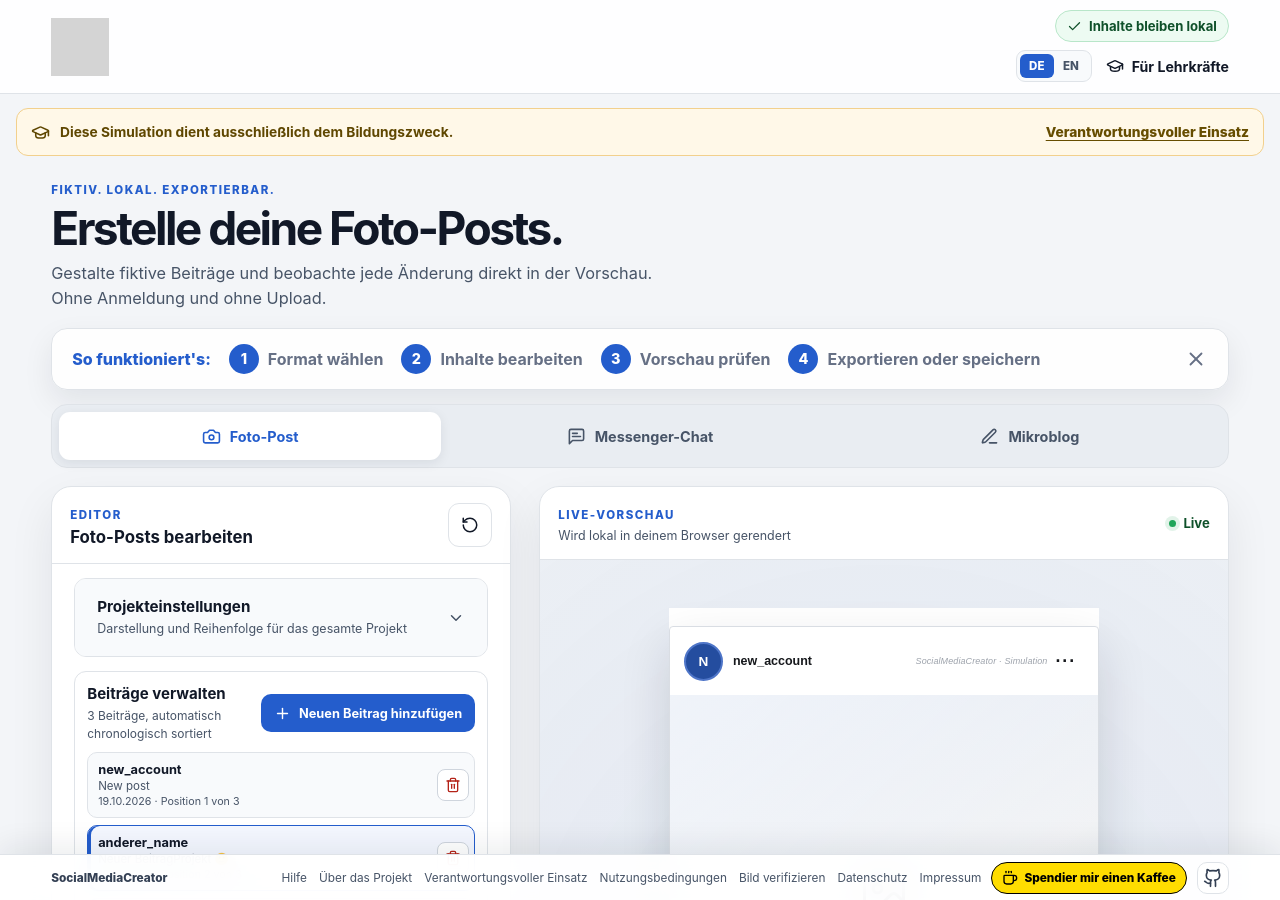
Test case: App › returns focus after closing the teacher information dialog
This screenshot has width=1280, height=900.
Click the button "Für Lehrkräfte" at point(1167, 66), box 1106,49 -> 1229,83
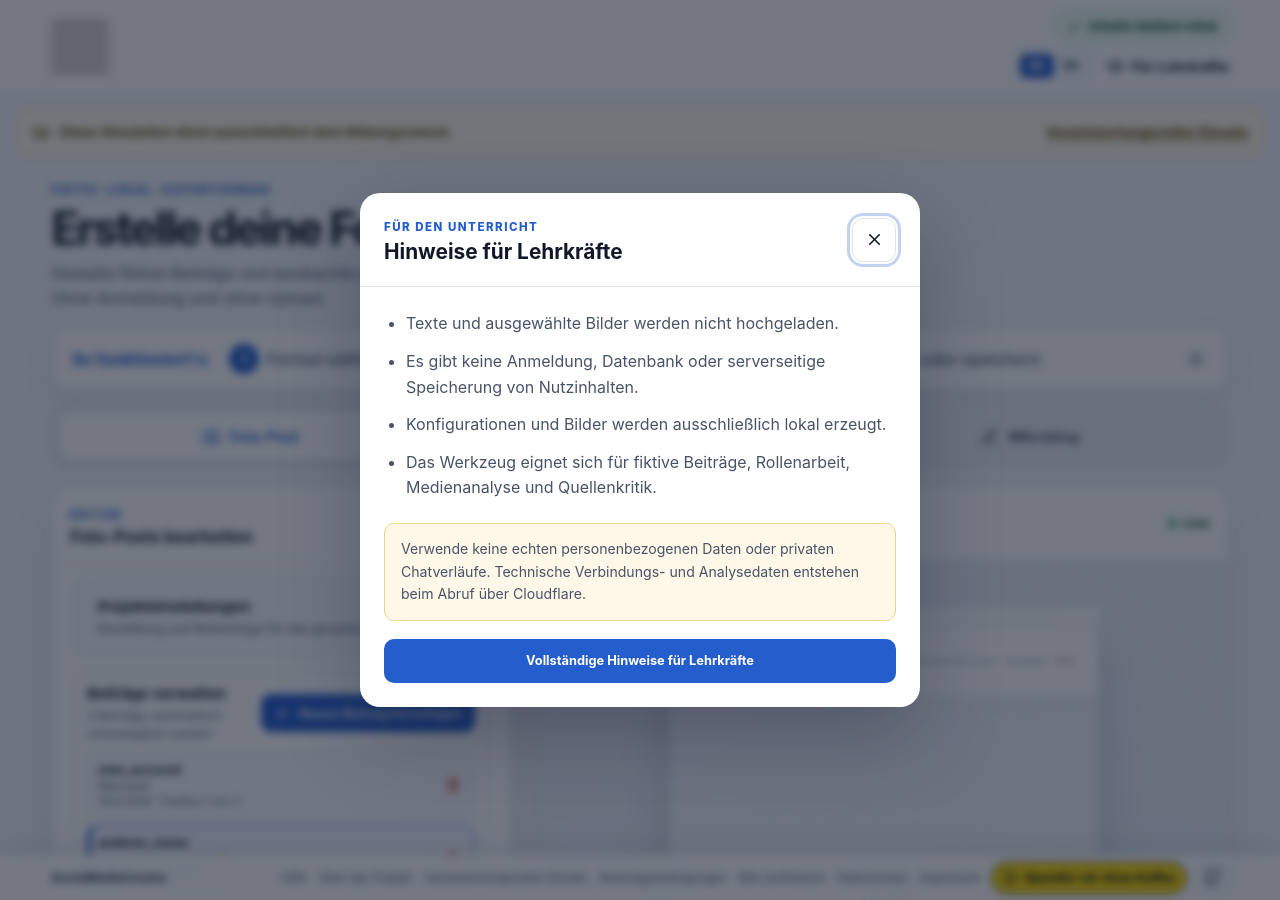
Press Escape
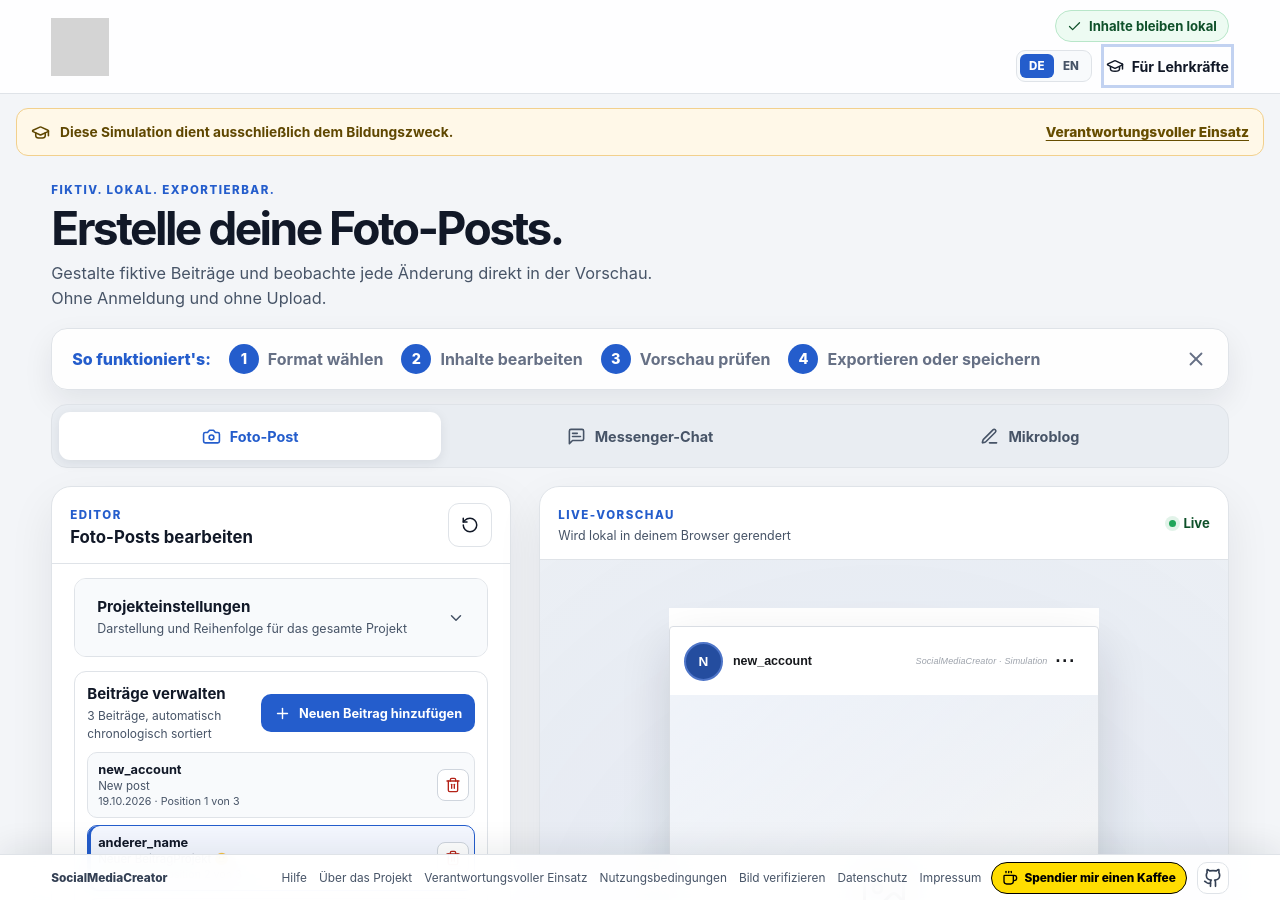
Result: the heading "Hinweise für Lehrkräfte" is gone
